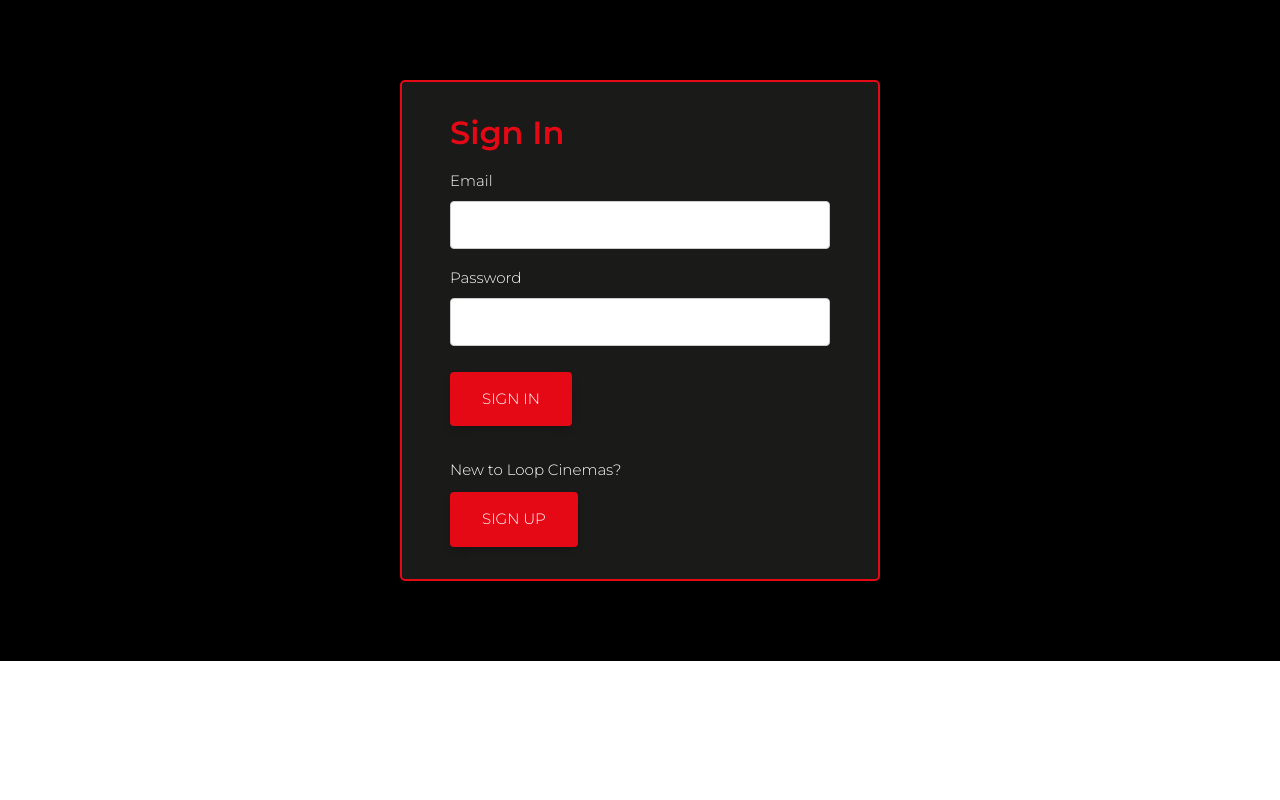
Test: Failed Sign In Scenario - Blank Email & Password Input
// Simulate click.
Click the button showing "SIGN IN" at (511, 399), box [450, 372, 572, 426]
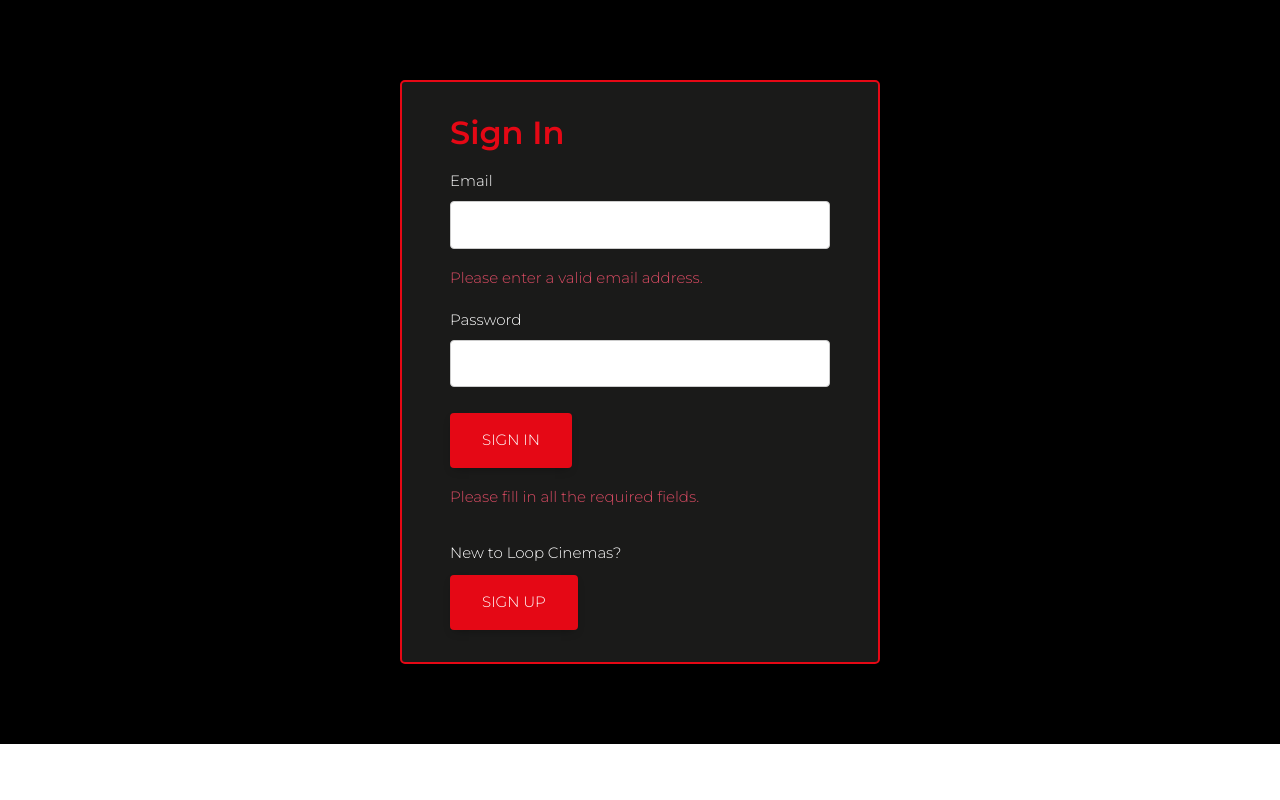
Expected: the text "Please fill in all the required fields." is shown, [450, 487, 699, 506]
